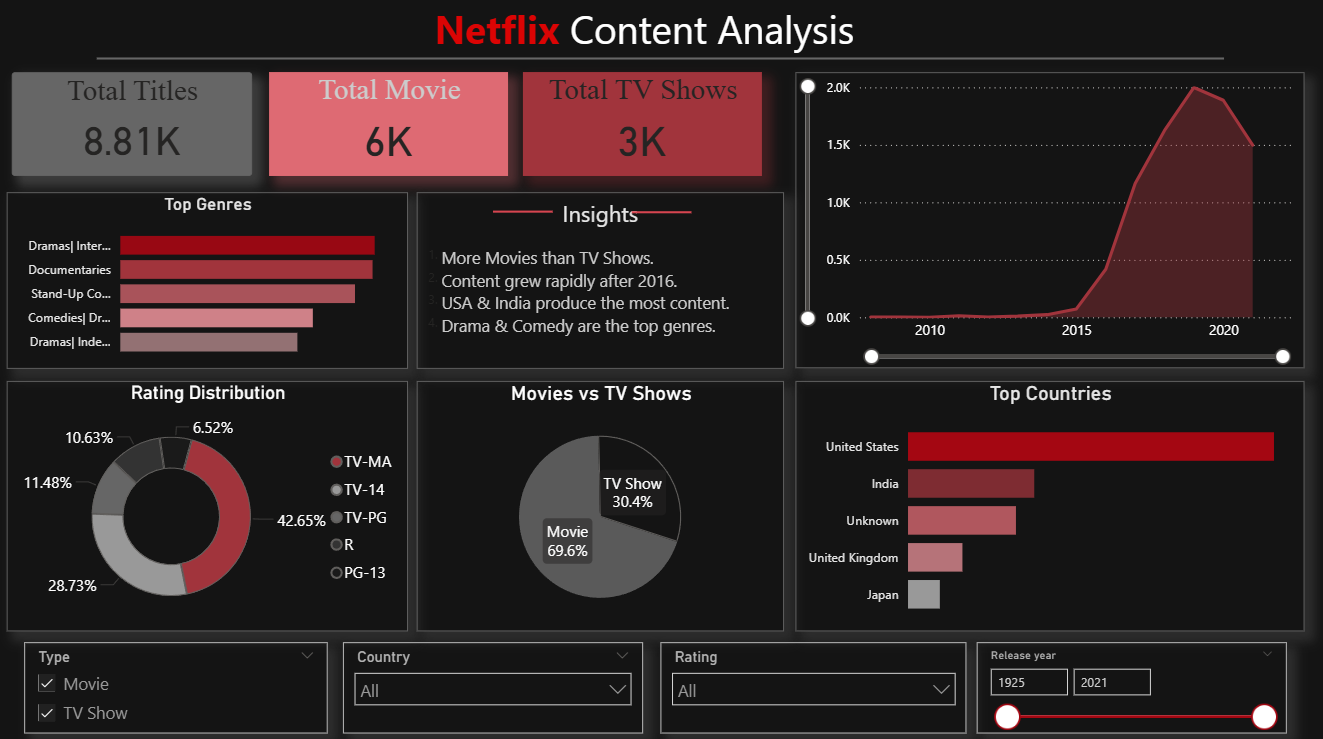

Layout of this report page (visuals, bound fields, positions):
{"tool":"powerbi","page":{"name":"Page 1","canvas":[1280,720],"ordinal":0},"visuals":[{"type":"card","title":"Total Titles","fields":{"Values":["CountNonNull(public netflix_titles.title)"]},"box":[13.3,73.6,231.6,100.1],"z":0},{"type":"card","title":"Total Movie","fields":{"Values":["public netflix_titles.Total Movies"]},"box":[261.8,73.6,230.4,100.1],"z":1000},{"type":"card","title":"Total TV Shows","fields":{"Values":["public netflix_titles.Total TV Shows"]},"box":[506.7,73.6,230.4,100.1],"z":2000},{"type":"pieChart","title":"Movies vs TV Shows","fields":{"Category":["public netflix_titles.Type"],"Y":["CountNonNull(public netflix_titles.Title)"]},"box":[404.2,371.6,354.7,241.3],"z":3000},{"type":"lineChart","fields":{"Category":["public netflix_titles.Year_added"],"Y":["CountNonNull(public netflix_titles.Title)"]},"box":[769.5,73.6,491.8,286.1],"z":4000},{"type":"donutChart","title":"Rating Distribution","fields":{"Category":["public netflix_titles.Rating"],"Y":["CountNonNull(public netflix_titles.Title)"]},"box":[8.4,371.6,387.3,241.3],"z":5000},{"type":"clusteredBarChart","title":"Top Countries","fields":{"Category":["Country.Country"],"Y":["CountNonNull(Country.Country)"]},"box":[769.7,371.6,491,241.3],"z":6000},{"type":"barChart","title":"Top Genres","fields":{"Category":["public netflix_titles.Listed_in"],"Y":["CountNonNull(public netflix_titles.Title)"]},"box":[8.4,189.4,387.3,170.1],"z":7000},{"type":"slicer","fields":{"Values":["Country.Country"]},"box":[333,623.7,289.5,88.1],"z":8000},{"type":"slicer","fields":{"Values":["public netflix_titles.Rating"]},"box":[639.4,623.7,295.6,88.1],"z":9000},{"type":"slicer","fields":{"Values":["public netflix_titles.Type"]},"box":[25.3,623.7,293.2,88.1],"z":10000},{"type":"slicer","fields":{"Values":["public netflix_titles.Release_year"]},"box":[944.6,623.7,299.2,88.1],"z":11000},{"type":"textbox","box":[416.2,1.2,446.4,72.4],"z":12000},{"type":"shape","box":[95.3,24.1,1088.2,72.4],"z":13000},{"type":"textbox","box":[404.8,189,354.7,170.6],"z":14000},{"type":"shape","box":[611.7,173.7,57.9,70],"z":15000},{"type":"shape","box":[477.8,185.8,57.9,44.6],"z":16000}]}

Visuals, with their boxes in screenshot pixels (x1, y1, x2, y2), scaled from the page's 1280x720 canvas onto the 1323x739 screenshot:
"Total Titles" card: 14/76/253/178
"Total Movie" card: 271/76/509/178
"Total TV Shows" card: 524/76/762/178
"Movies vs TV Shows" pieChart: 418/381/784/629
lineChart - public netflix_titles.Year_added x CountNonNull(public netflix_titles.Title): 795/76/1304/369
"Rating Distribution" donutChart: 9/381/409/629
"Top Countries" clusteredBarChart: 796/381/1303/629
"Top Genres" barChart: 9/194/409/369
slicer - Country.Country: 344/640/643/731
slicer - public netflix_titles.Rating: 661/640/966/731
slicer - public netflix_titles.Type: 26/640/329/731
slicer - public netflix_titles.Release_year: 976/640/1286/731
textbox: 430/1/892/76
shape: 99/25/1223/99
textbox: 418/194/785/369
shape: 632/178/692/250
shape: 494/191/554/236
